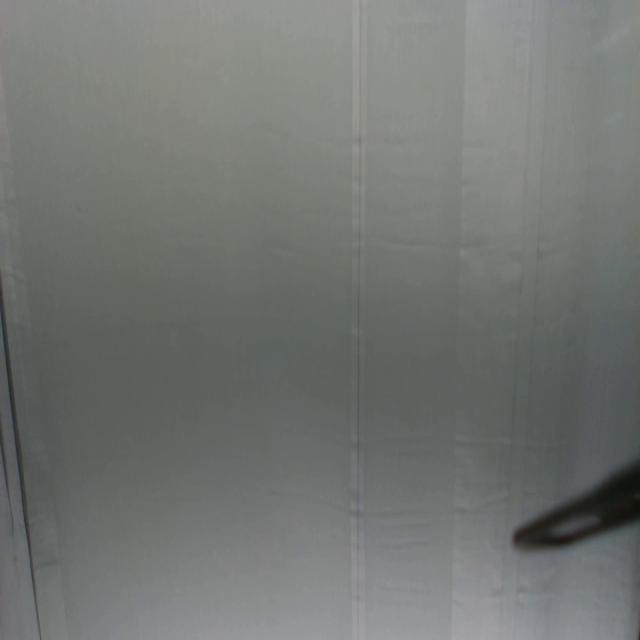crease: (504, 3, 554, 508), (1, 272, 43, 640), (349, 0, 369, 639)
